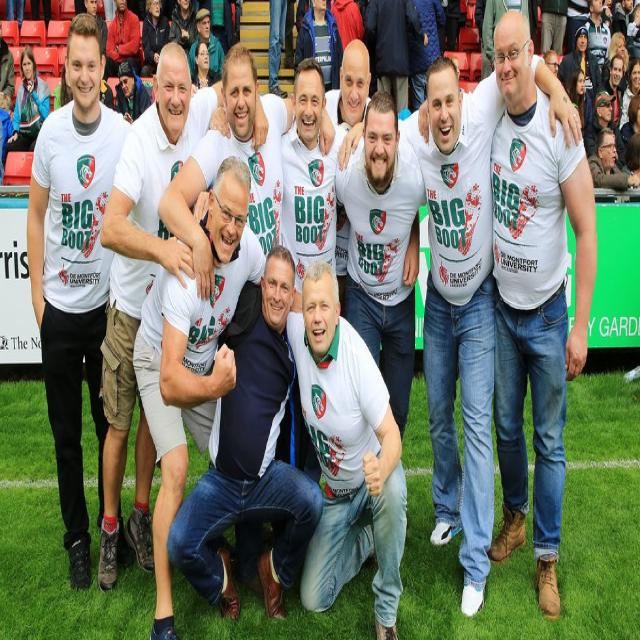body: (334, 51, 584, 622), (416, 5, 599, 622), (164, 187, 326, 627), (96, 40, 219, 592), (25, 12, 135, 597), (165, 244, 325, 624), (208, 57, 349, 471), (284, 254, 408, 639), (156, 41, 296, 304), (333, 87, 428, 446), (321, 34, 375, 326), (489, 7, 533, 200), (365, 0, 429, 115), (594, 0, 640, 129), (558, 21, 602, 154), (408, 0, 448, 114), (10, 45, 51, 154), (586, 126, 640, 206), (296, 0, 343, 91), (186, 5, 225, 84), (106, 0, 141, 78), (114, 60, 152, 126), (142, 0, 170, 81), (198, 7, 226, 88), (564, 69, 594, 144), (267, 0, 289, 101), (584, 0, 612, 77), (330, 1, 366, 56), (540, 0, 568, 62), (6, 0, 57, 33), (190, 40, 223, 90), (172, 0, 198, 59), (0, 18, 16, 112), (84, 0, 110, 57), (0, 89, 12, 195), (52, 60, 72, 111), (101, 68, 117, 118), (626, 132, 640, 182), (539, 51, 561, 72)
